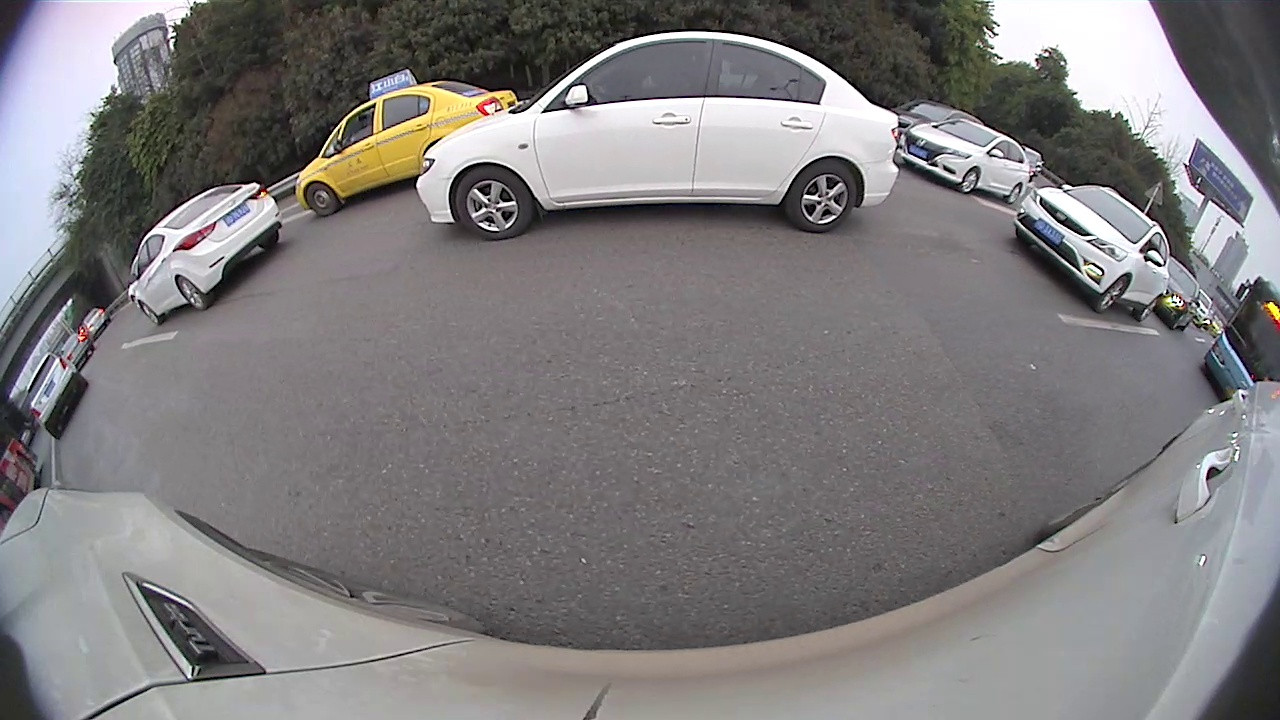bus: (1201, 272, 1279, 400)
car: (407, 29, 902, 244), (293, 67, 519, 220), (125, 179, 283, 327), (1010, 182, 1173, 321), (899, 115, 1033, 203), (22, 350, 90, 440), (888, 98, 985, 148), (1160, 257, 1202, 334)
front: (454, 162, 538, 242), (1093, 273, 1130, 315), (304, 181, 339, 217), (137, 297, 163, 326), (956, 166, 981, 196)
rear: (780, 159, 858, 235), (173, 275, 212, 312), (1133, 294, 1163, 325), (1003, 182, 1024, 207)
